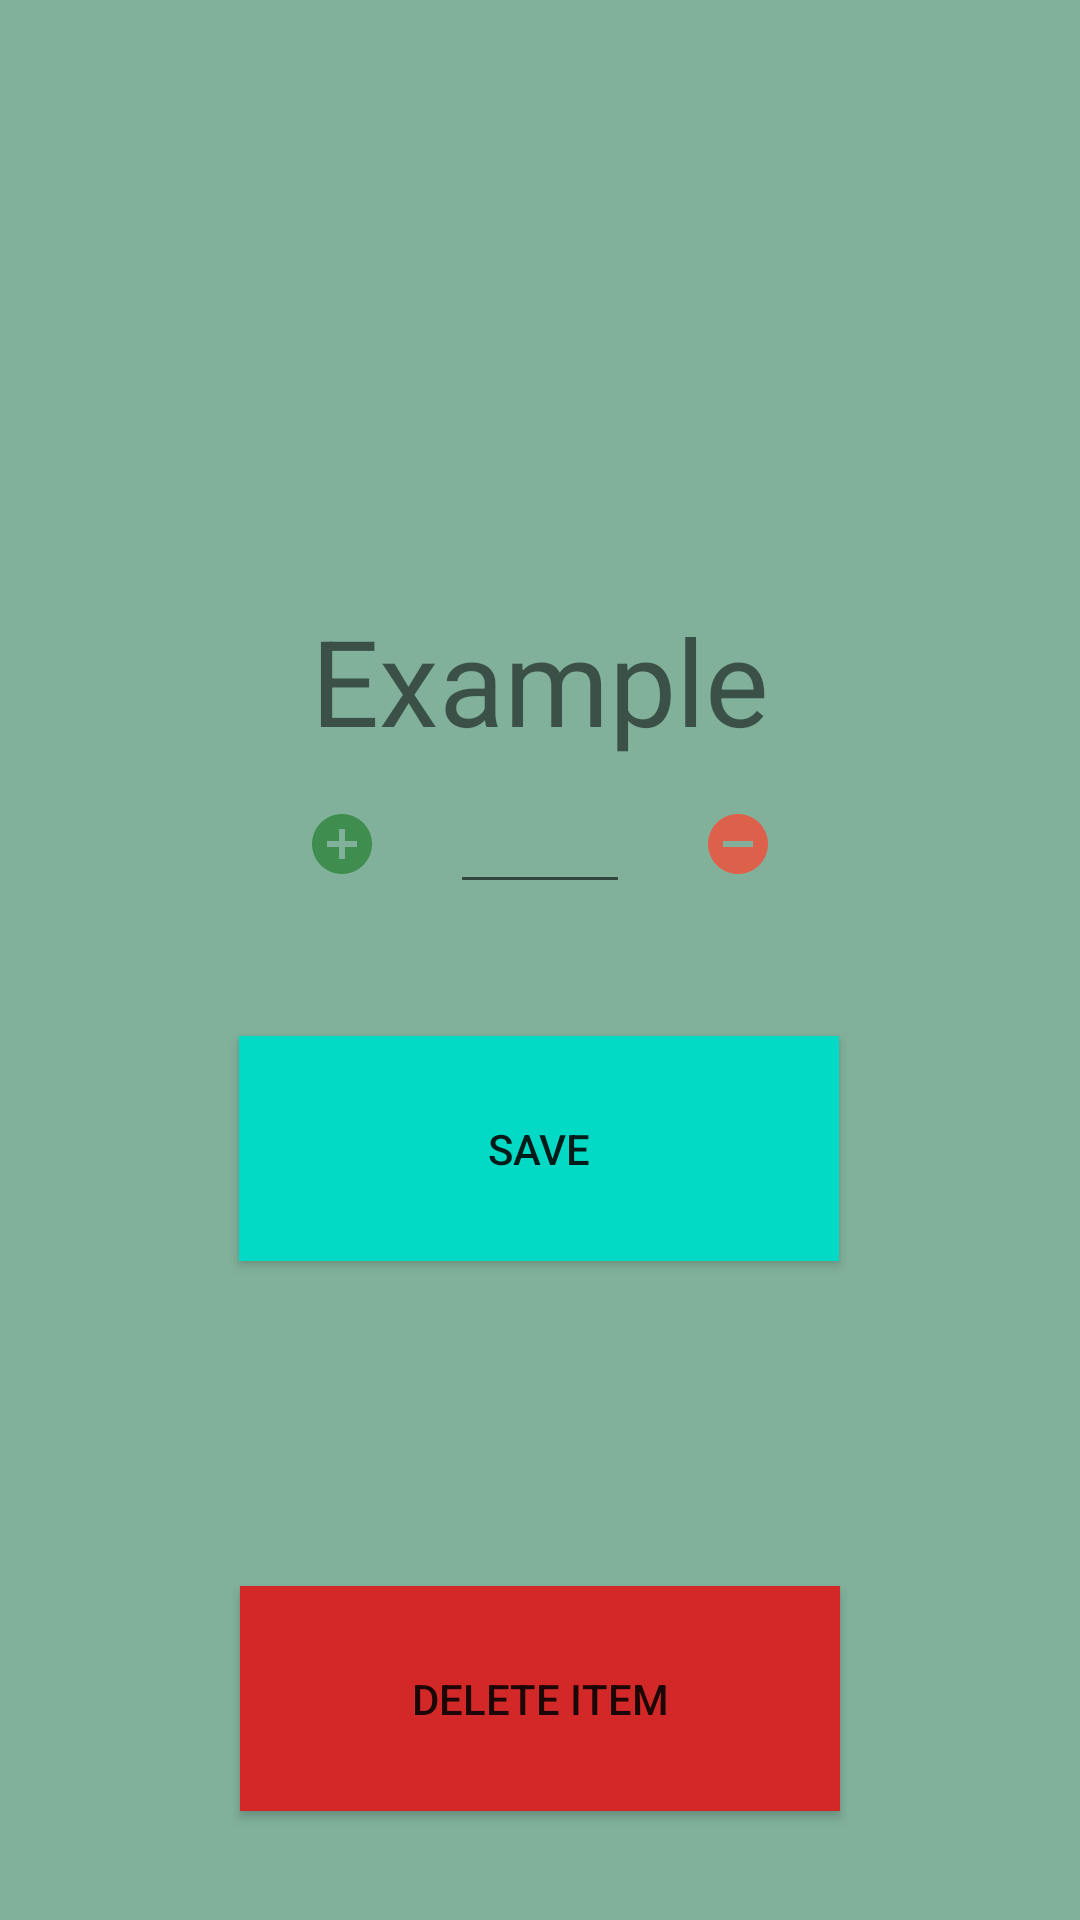

Where icons sit on this 1080px x 1920px app screen, as (x1, y1, x2, y2):
add circle: (312, 814, 372, 874)
remove circle: (708, 814, 768, 874)
